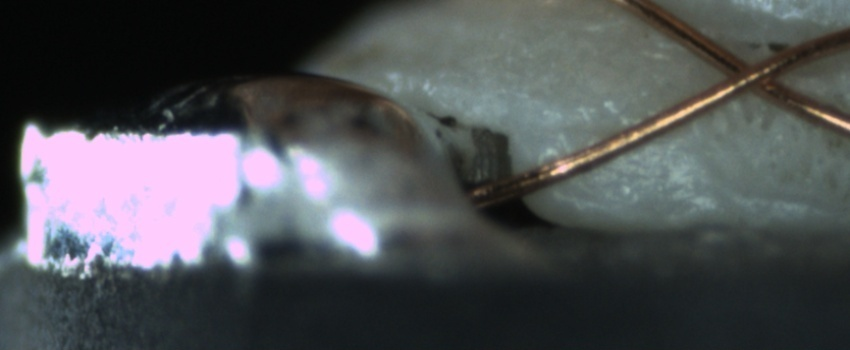CL: (704, 39, 805, 106)
DL: (542, 98, 666, 155)
